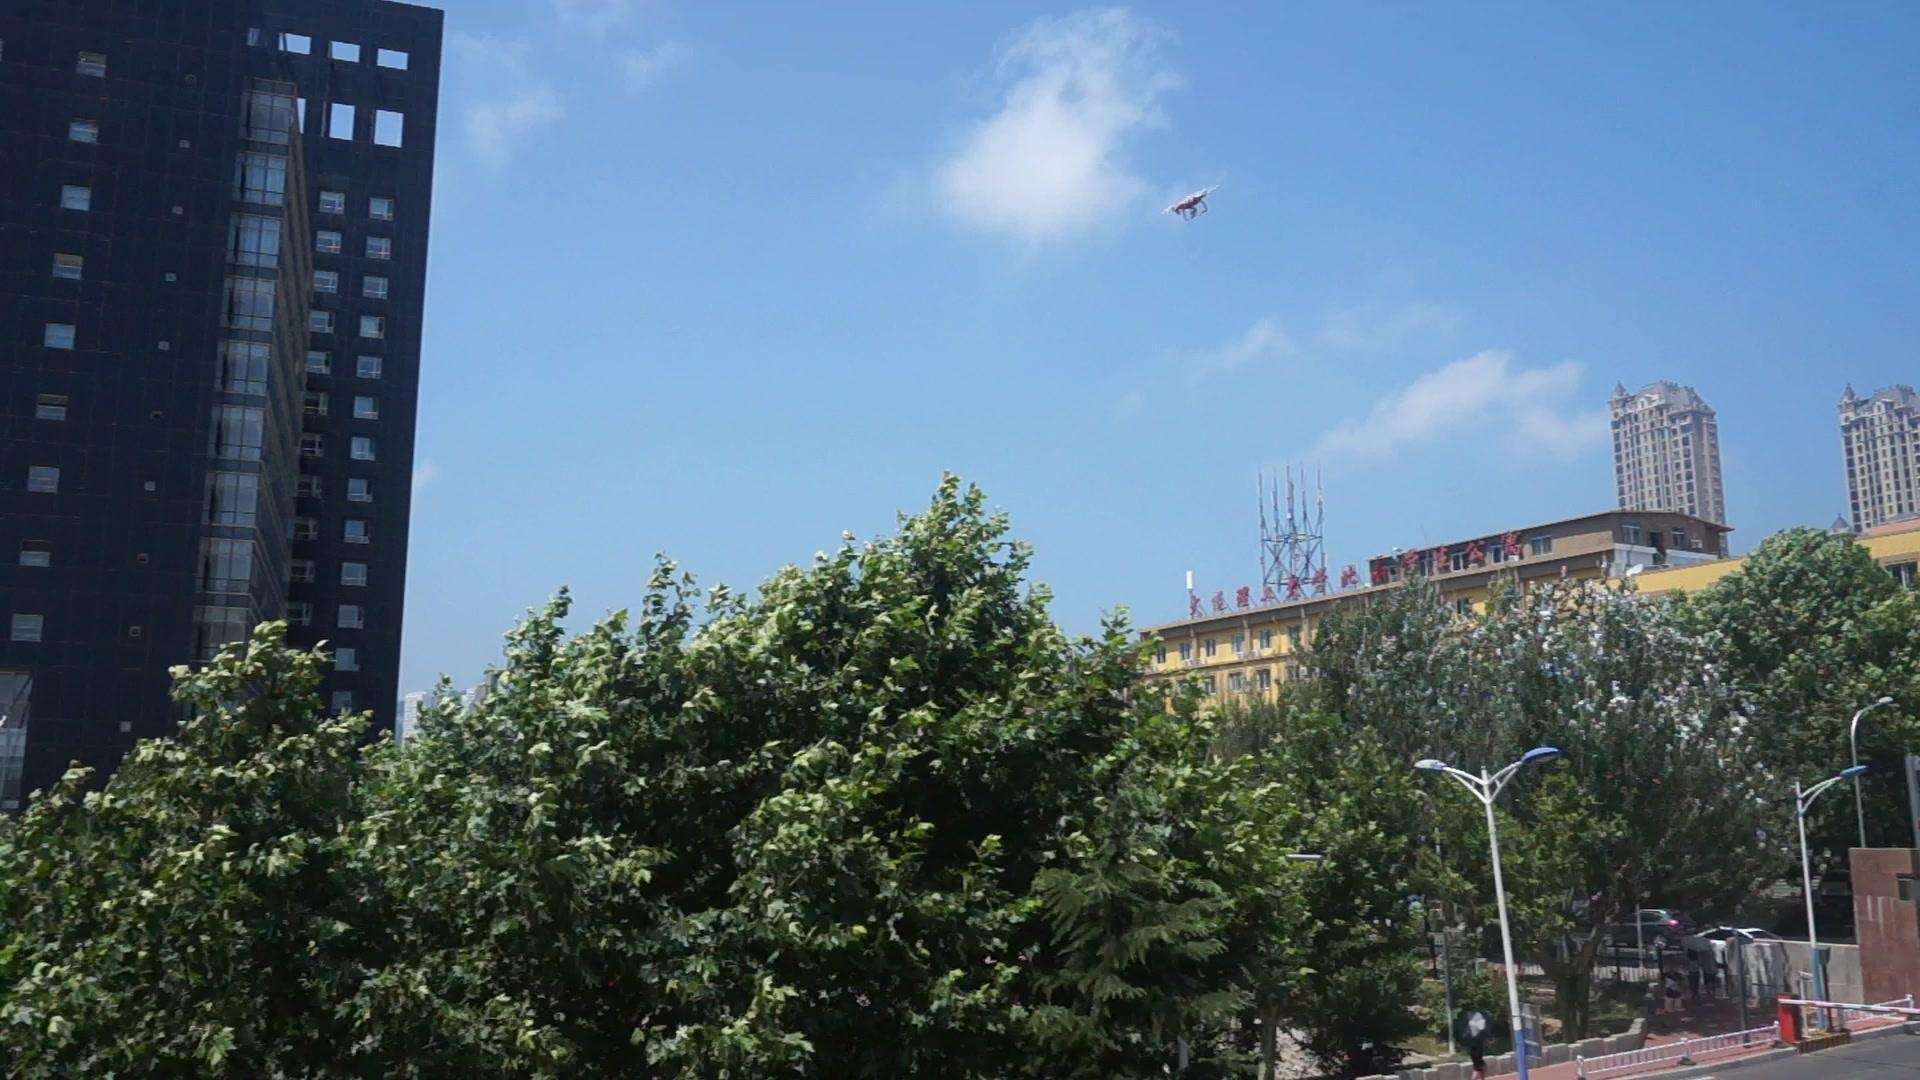UAV: (1162, 186, 1222, 222)
